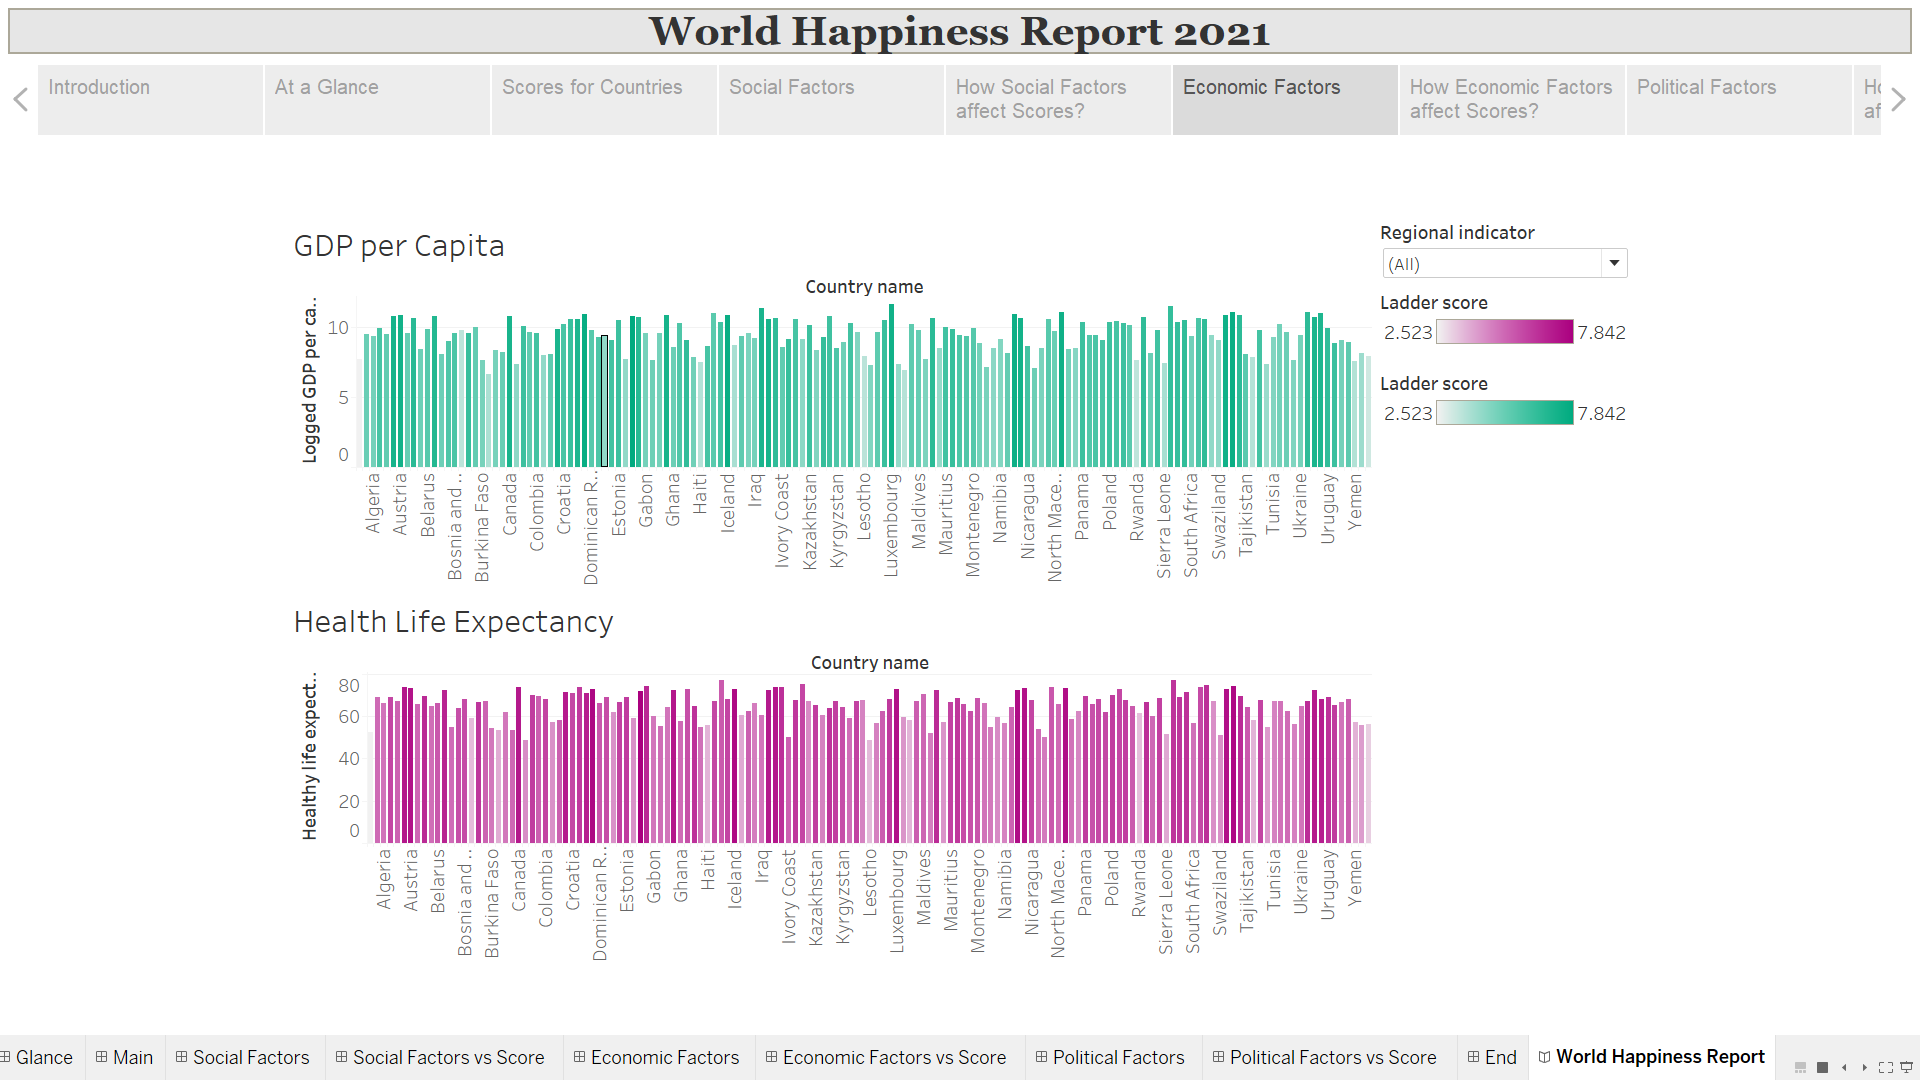

What the dashboard file says about the page in this screenshot:
{"tool":"tableau","page":{"name":"Economic Factors","canvas":[1366,768],"ordinal":0},"visuals":[{"type":"worksheet","title":"GDP per Capita","mark":"Automatic","rows":["Logged GDP per capita"],"cols":["Country name"],"box":[8,8,1090.7,376]},{"type":"filter","title":"Health Life Expectancy","param":"[federated.16lhggg14e2l4v177vae709t3t9u].[none:Regional indicator:nk]","box":[1098.7,8,259.3,70]},{"type":"legend","title":"Health Life Expectancy","param":"[federated.16lhggg14e2l4v177vae709t3t9u].[sum:Ladder score:qk]","box":[1098.7,78,259.3,81]},{"type":"legend","title":"GDP per Capita","param":"[federated.16lhggg14e2l4v177vae709t3t9u].[sum:Ladder score:qk]","box":[1098.7,159,259.3,81]},{"type":"worksheet","title":"Health Life Expectancy","mark":"Automatic","rows":["Healthy life expectancy"],"cols":["Country name"],"box":[8,384,1090.7,376]}]}

Visuals, with their boxes on the page's 1366x768 design canvas (x1, y1, x2, y2). These are canvas units, not pixel positions in the 1920x1080 screenshot, which may show the page scaled, cropped or inside an application window:
"GDP per Capita" worksheet: {"x1": 8, "y1": 8, "x2": 1099, "y2": 384}
"Health Life Expectancy" filter: {"x1": 1099, "y1": 8, "x2": 1358, "y2": 78}
"Health Life Expectancy" legend: {"x1": 1099, "y1": 78, "x2": 1358, "y2": 159}
"GDP per Capita" legend: {"x1": 1099, "y1": 159, "x2": 1358, "y2": 240}
"Health Life Expectancy" worksheet: {"x1": 8, "y1": 384, "x2": 1099, "y2": 760}
